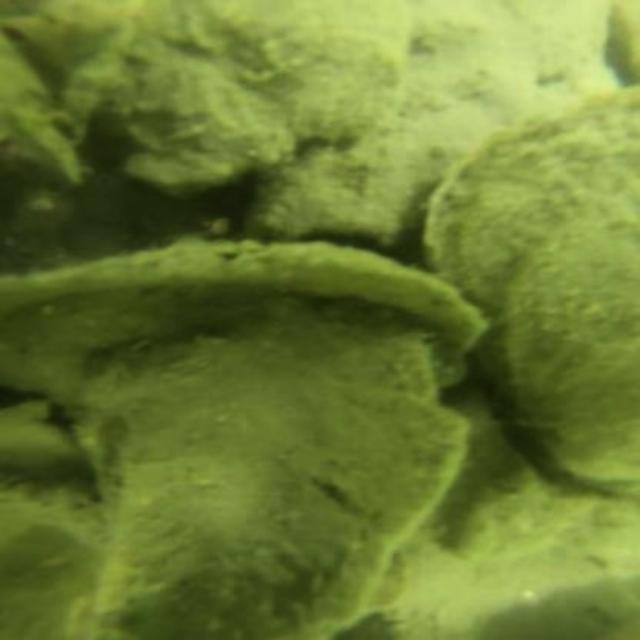Oyster-Closed: (76, 310, 468, 640), (412, 85, 636, 485), (0, 232, 479, 413), (97, 2, 413, 197)
